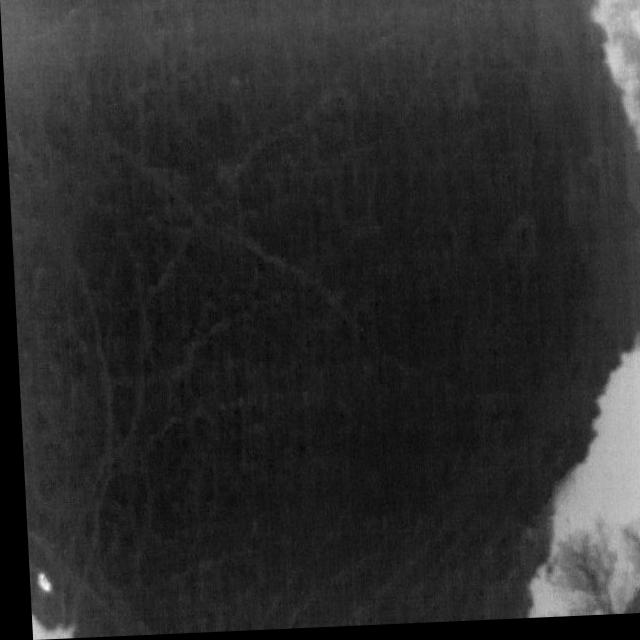deer: (31, 572, 48, 593)
